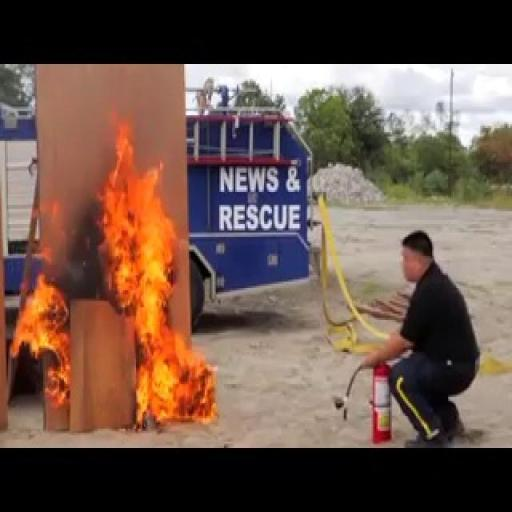smoke: (18, 101, 228, 424)
